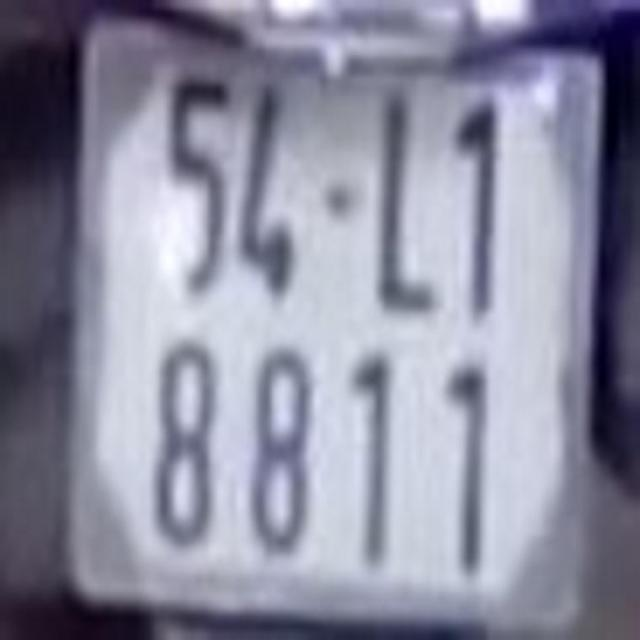1: (340, 326, 400, 576), (452, 93, 507, 314), (440, 363, 494, 576)
4: (236, 79, 302, 307)
5: (166, 79, 229, 300)
8: (251, 347, 312, 552), (156, 344, 216, 545)
L: (371, 96, 436, 311)
